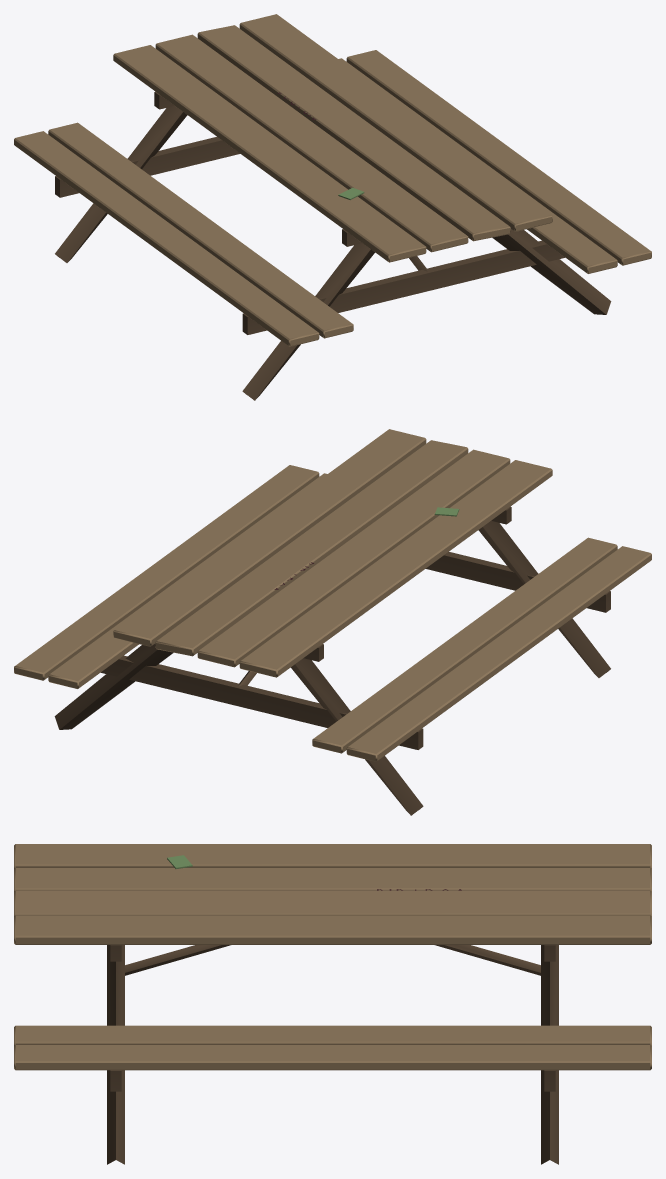
The model's file is picnic_table.glb.
The picture shows the model from 3 angles, top to bottom: view 1: azimuth 30°, elevation 25°; view 2: azimuth 150°, elevation 25°; view 3: azimuth 270°, elevation 25°; orthographic projection. The views are drawn at different scales.
Visible parts, largest first — view 1: picnic_table; view 2: picnic_table; view 3: picnic_table.
Boxes of the visible parts, <box> form: picnic_table: <box>14,14,651,400</box>; picnic_table: <box>14,429,651,815</box>; picnic_table: <box>14,844,651,1164</box>.
Size of the model in its own units: 1.93 by 0.766 by 2.5.
